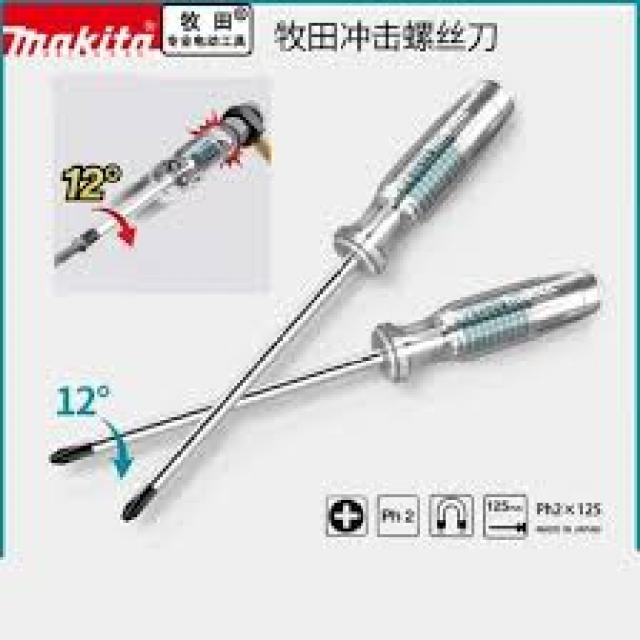screwdriver: (117, 77, 514, 526), (46, 267, 608, 467)
